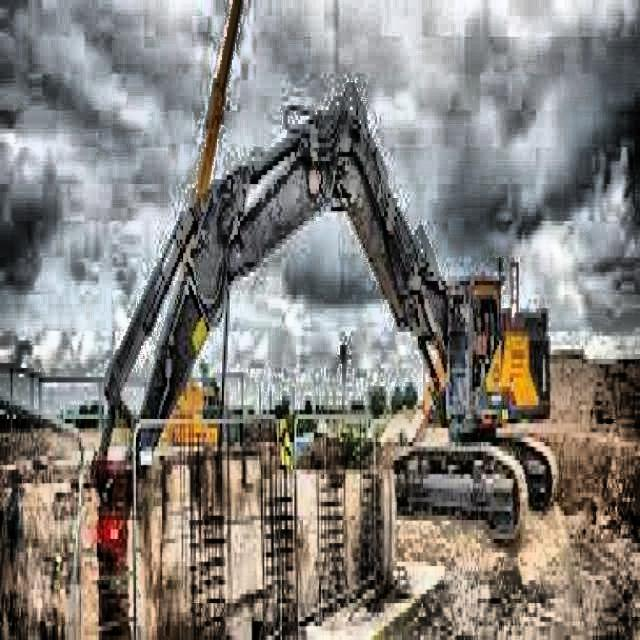bull_dozer/loader/grader: (88, 71, 565, 543), (167, 0, 244, 450)
person: (274, 402, 292, 470)
